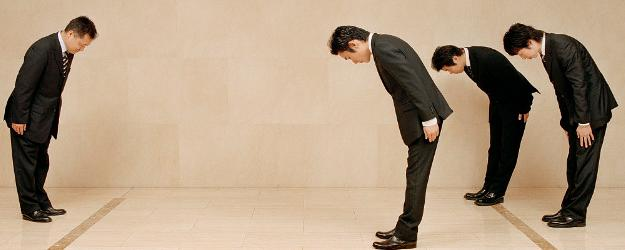bending: (319, 22, 450, 245), (513, 21, 624, 236), (8, 16, 97, 221), (435, 40, 536, 212)
